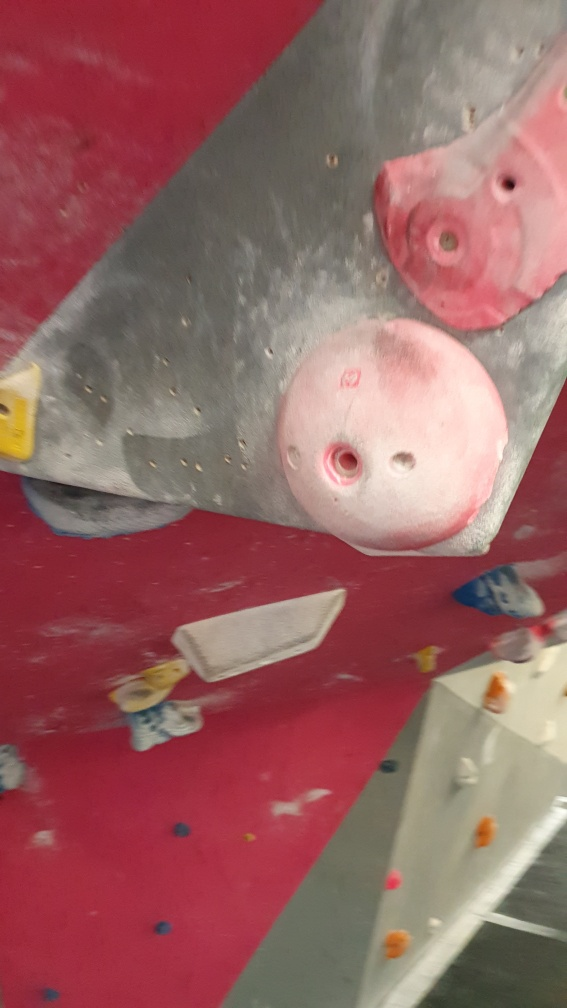Pinch: (164, 582, 352, 686)
Sloper: (274, 316, 513, 556)
